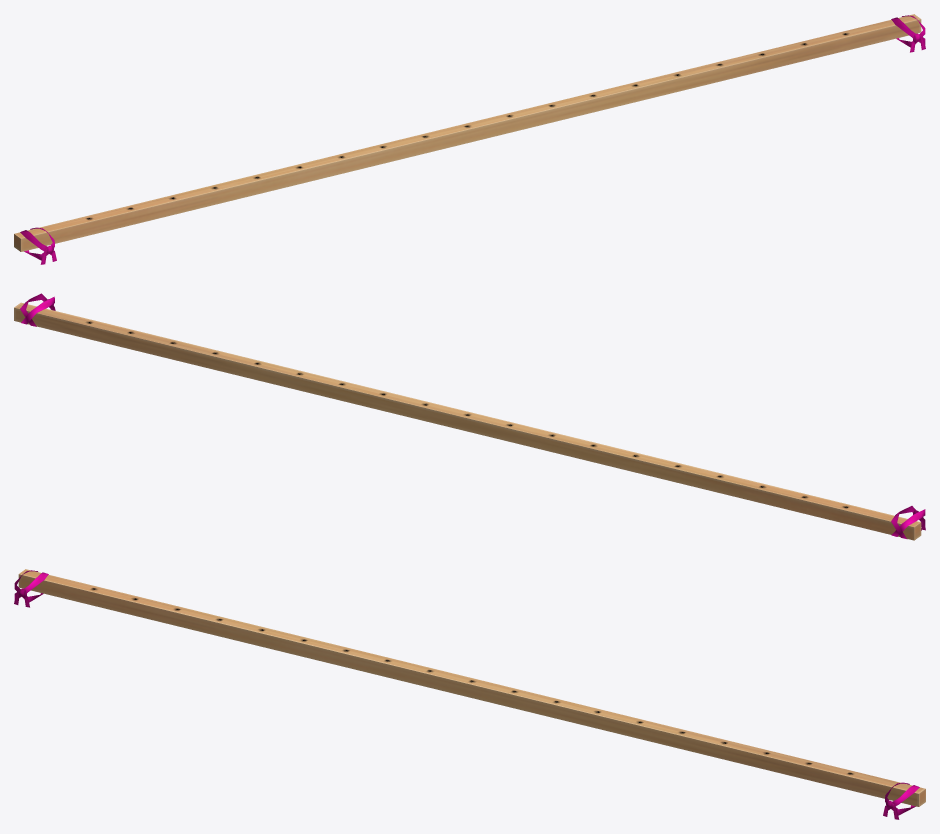
Rendered from jsf_2P_s02_DisplayCabinet_01.fbx.
The picture shows the model from 3 angles, top to bottom: view 1: azimuth 30°, elevation 25°; view 2: azimuth 150°, elevation 25°; view 3: azimuth 330°, elevation 25°; orthographic projection.
Parts seen in each view (by area): view 1: jsf_2P_s02_DisplayCabinet_01; view 2: jsf_2P_s02_DisplayCabinet_01; view 3: jsf_2P_s02_DisplayCabinet_01.
Part boxes in pixels (box(x1,y1,x2,y2)): jsf_2P_s02_DisplayCabinet_01: box(14, 14, 925, 264); jsf_2P_s02_DisplayCabinet_01: box(14, 293, 925, 540); jsf_2P_s02_DisplayCabinet_01: box(14, 569, 925, 819).
Size of the model in its own units: 214 by 5.58 by 8.38.
